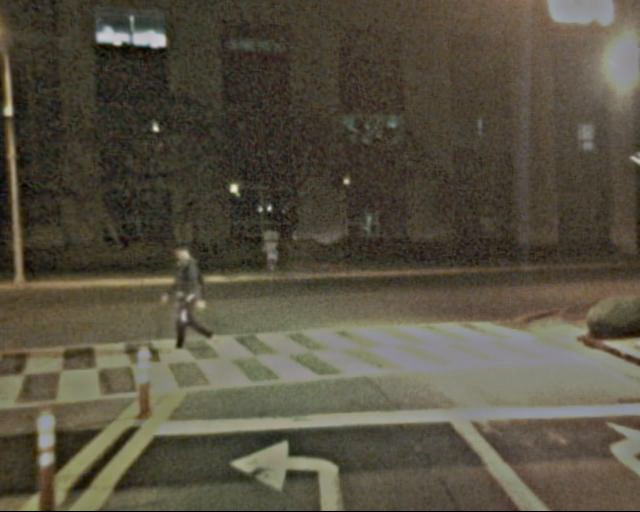person: (161, 242, 208, 357)
